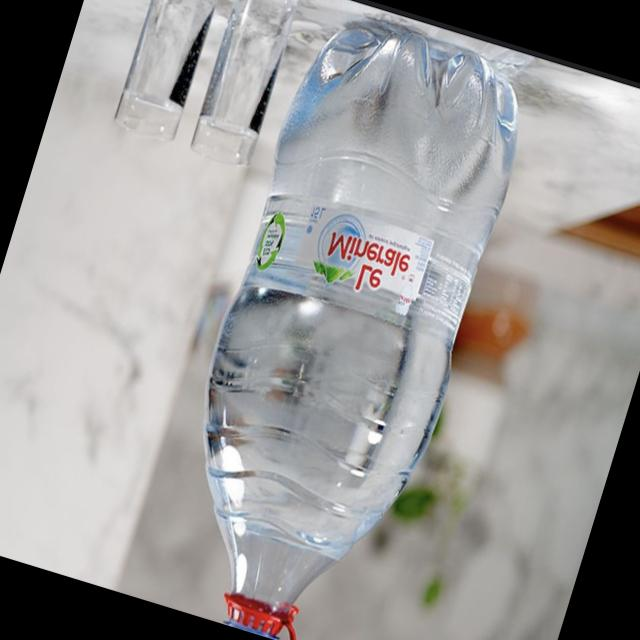Galon: (136, 1, 547, 640)
